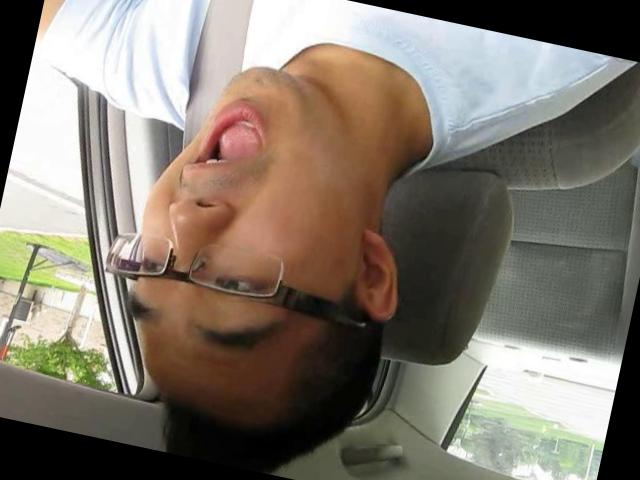eye_open: (196, 259, 278, 309), (130, 245, 172, 283)
face: (110, 44, 381, 374)
mouth_open: (178, 91, 276, 190)
